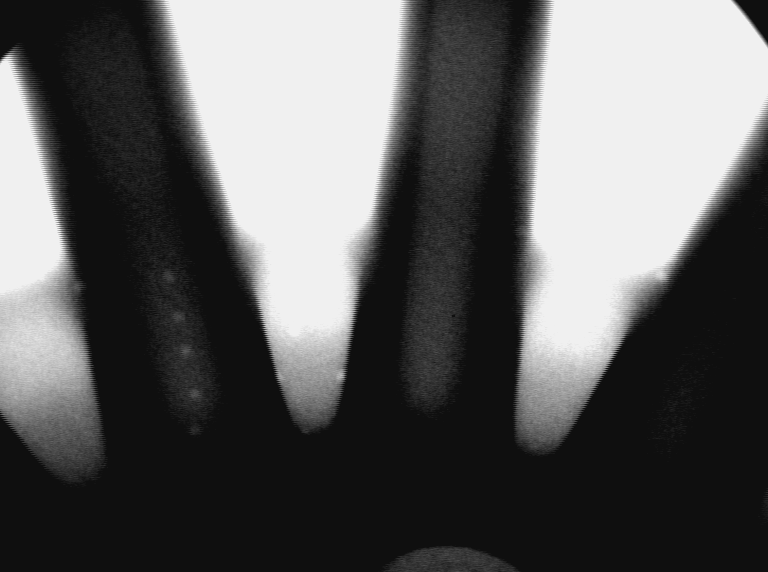defect: (71, 279, 88, 300)
